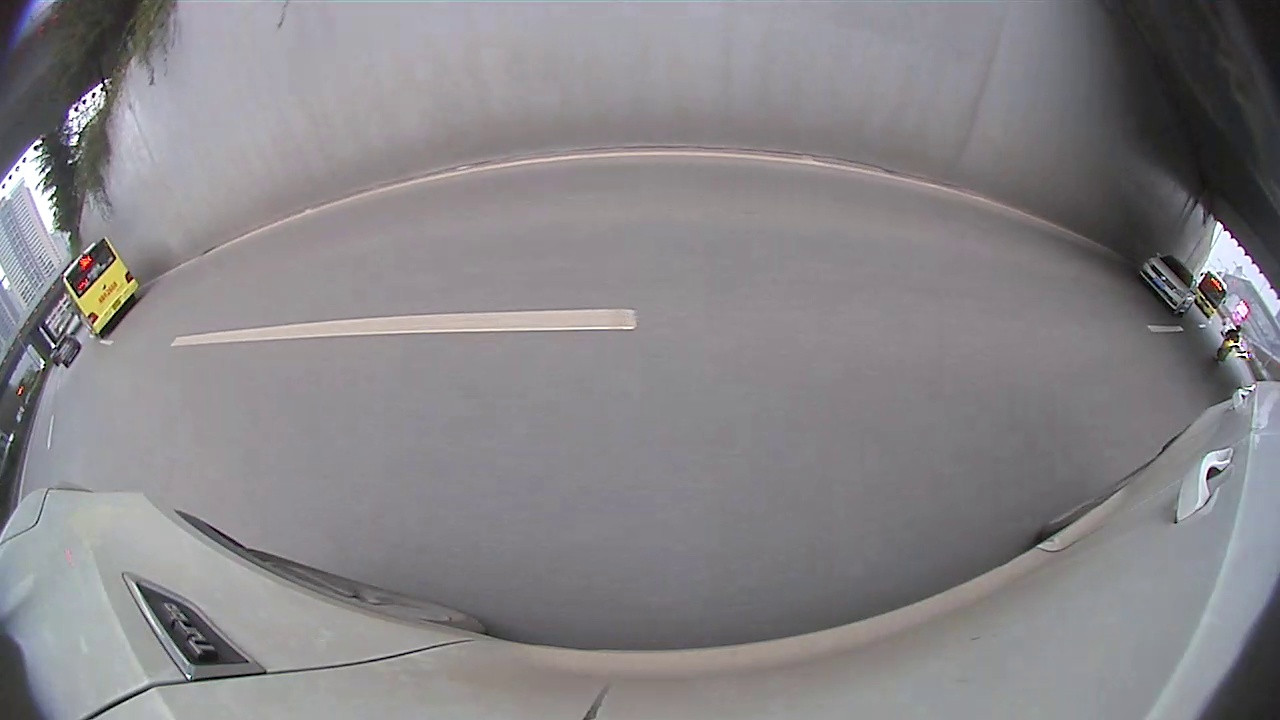bus: (952, 126, 1279, 408)
car: (0, 169, 322, 490), (834, 150, 1129, 317), (445, 142, 554, 221), (559, 158, 594, 195)
front: (236, 268, 309, 354), (836, 192, 862, 233)
rear: (1221, 336, 1279, 407), (957, 230, 1016, 298), (509, 179, 529, 212)
truck: (561, 0, 863, 226)
